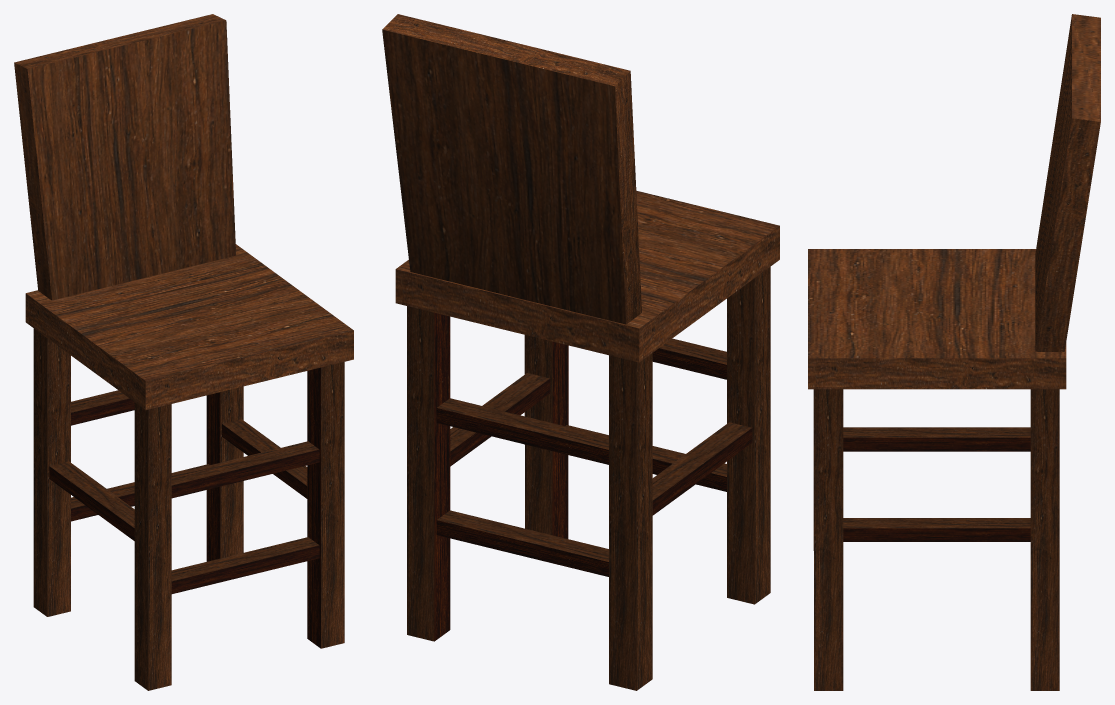
The model's file is mm9_deco_chairdesk03b.glb.
3 renders of one model, left to right at view 1: azimuth 30°, elevation 25°; view 2: azimuth 150°, elevation 25°; view 3: azimuth 270°, elevation 25°, orthographic. The views are drawn at different scales.
Parts seen in each view (by area): view 1: Chairdesk03b; view 2: Chairdesk03b; view 3: Chairdesk03b.
Part boxes in pixels (x1,y1,x2,y2): Chairdesk03b: (14, 14, 353, 690); Chairdesk03b: (382, 14, 779, 690); Chairdesk03b: (808, 14, 1100, 690).
Bounding box in the file's own units: 0.6091 × 1.49 × 0.6912.
Materials: 2 (2 with a texture image).
